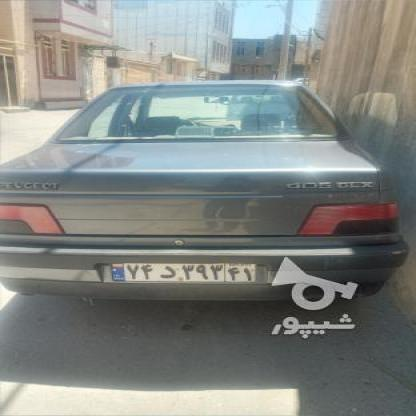licence: (110, 259, 258, 285)
